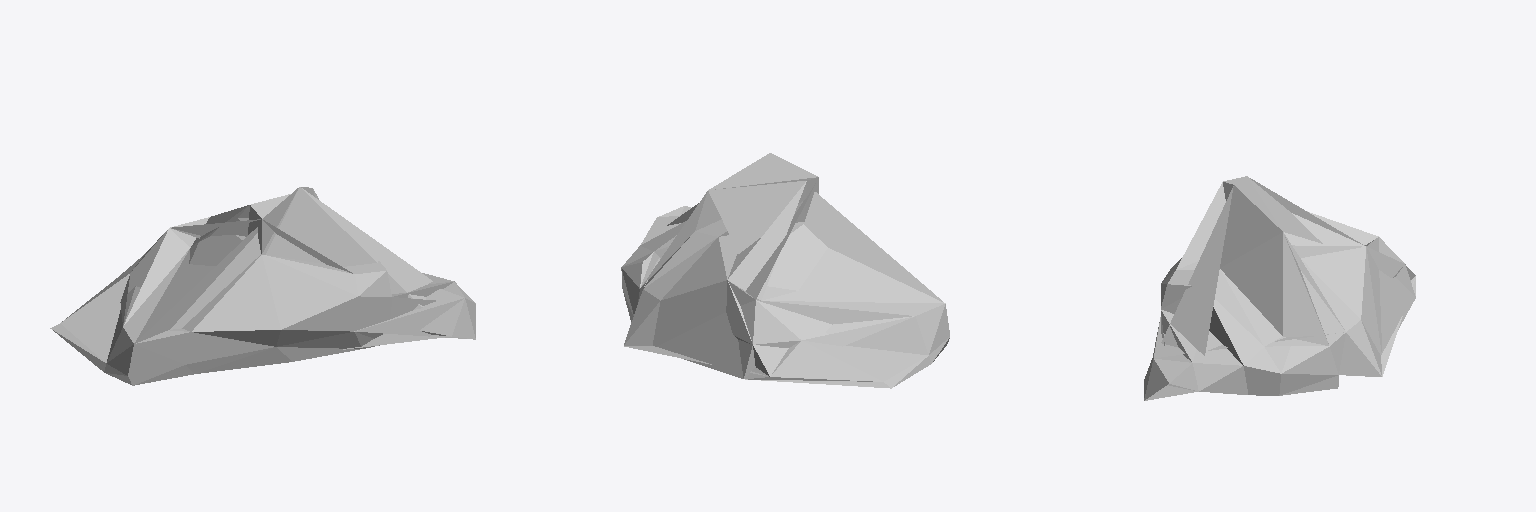
Rendered from Rock.obj.
3 views of the same model, side by side, from view 1: azimuth 30°, elevation 25°; view 2: azimuth 150°, elevation 25°; view 3: azimuth 270°, elevation 25° (orthographic).
Visible parts, largest first — view 1: polySurface1, polySurface2 polySurface1; view 2: polySurface1, polySurface2 polySurface1; view 3: polySurface1, polySurface2 polySurface1.
Boxes of the visible parts, x1,y1,x2,y2 form: polySurface1: [50, 187, 475, 385]; polySurface2 polySurface1: [107, 187, 475, 360]; polySurface1: [621, 153, 949, 388]; polySurface2 polySurface1: [624, 178, 945, 378]; polySurface1: [1144, 176, 1415, 400]; polySurface2 polySurface1: [1144, 176, 1415, 400].
Size of the model in its own units: 6.44 by 3.04 by 4.61.